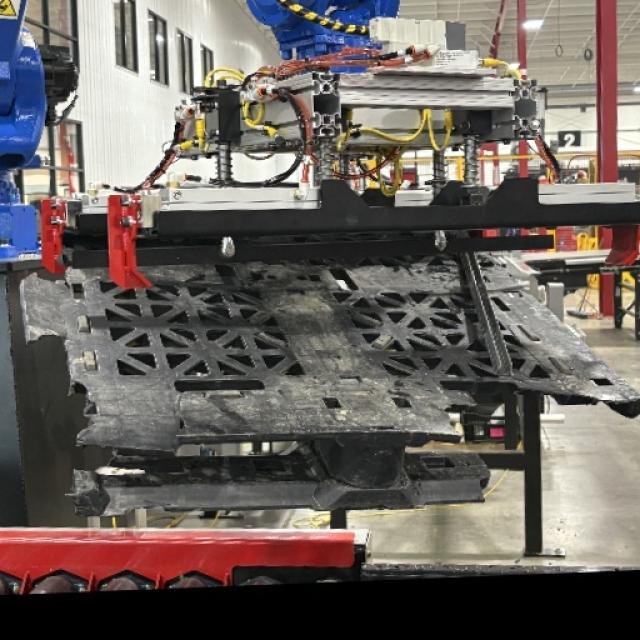igps: (7, 237, 640, 523)
